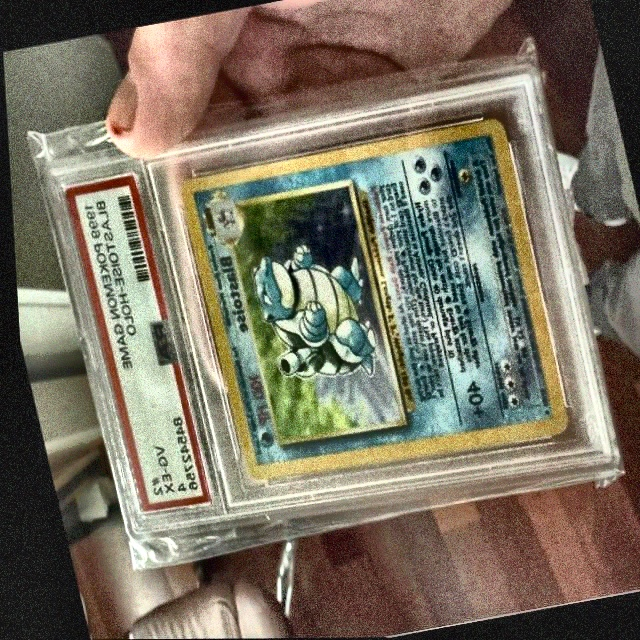card: (176, 116, 564, 485)
